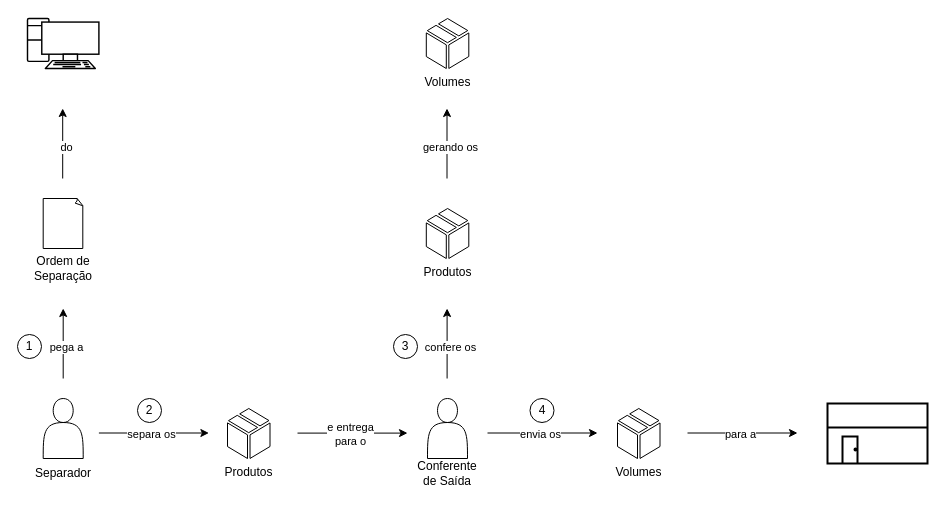
The diagram is 946 pixels wide and 505 high, and some of its shapes have lost their labels. The shapes that lost their labels are listed below. From the top down, each one's centre as x and y in pixels, then its label:
At (x=62, y=43): "WMS".
At (x=877, y=433): "Doca".
